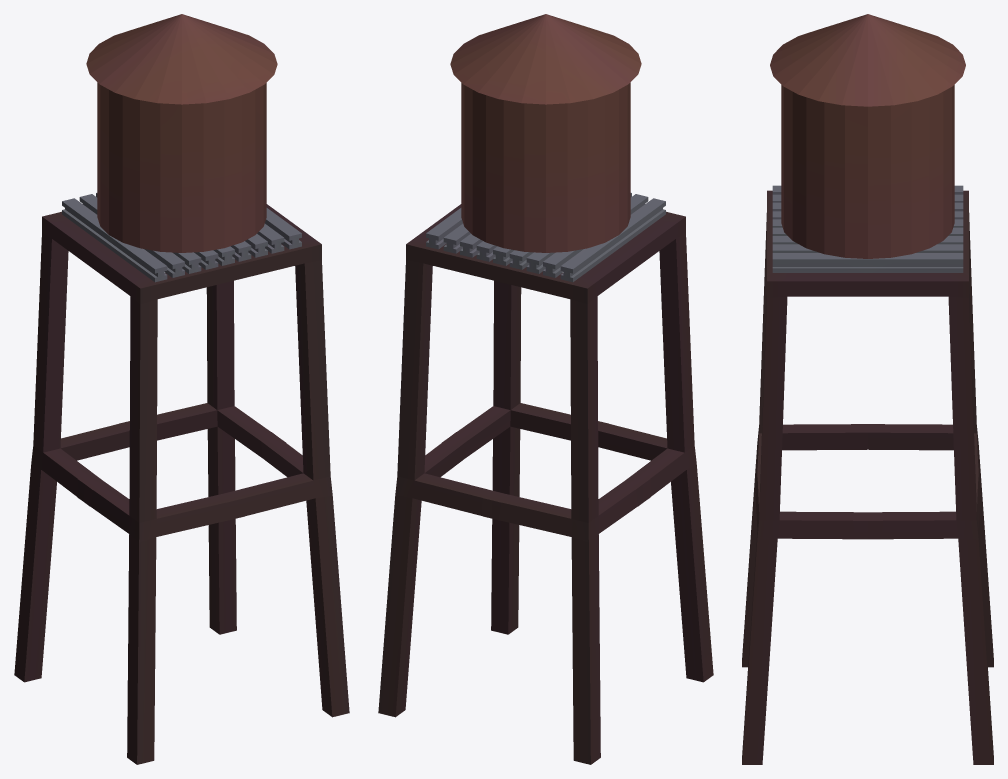
Rendered from Waterbashnya.fbx.
3 renders of one model, left to right at view 1: azimuth 30°, elevation 25°; view 2: azimuth 150°, elevation 25°; view 3: azimuth 270°, elevation 25°, orthographic. The views are drawn at different scales.
Parts seen in each view (by area): view 1: Cube.040; view 2: Cube.040; view 3: Cube.040.
Part boxes in pixels (left/top/right/bottom): Cube.040: left=14, top=14, right=349, bottom=764; Cube.040: left=378, top=14, right=713, bottom=764; Cube.040: left=742, top=14, right=993, bottom=764.
Bounding box in the file's own units: 943 × 2882 × 943.
